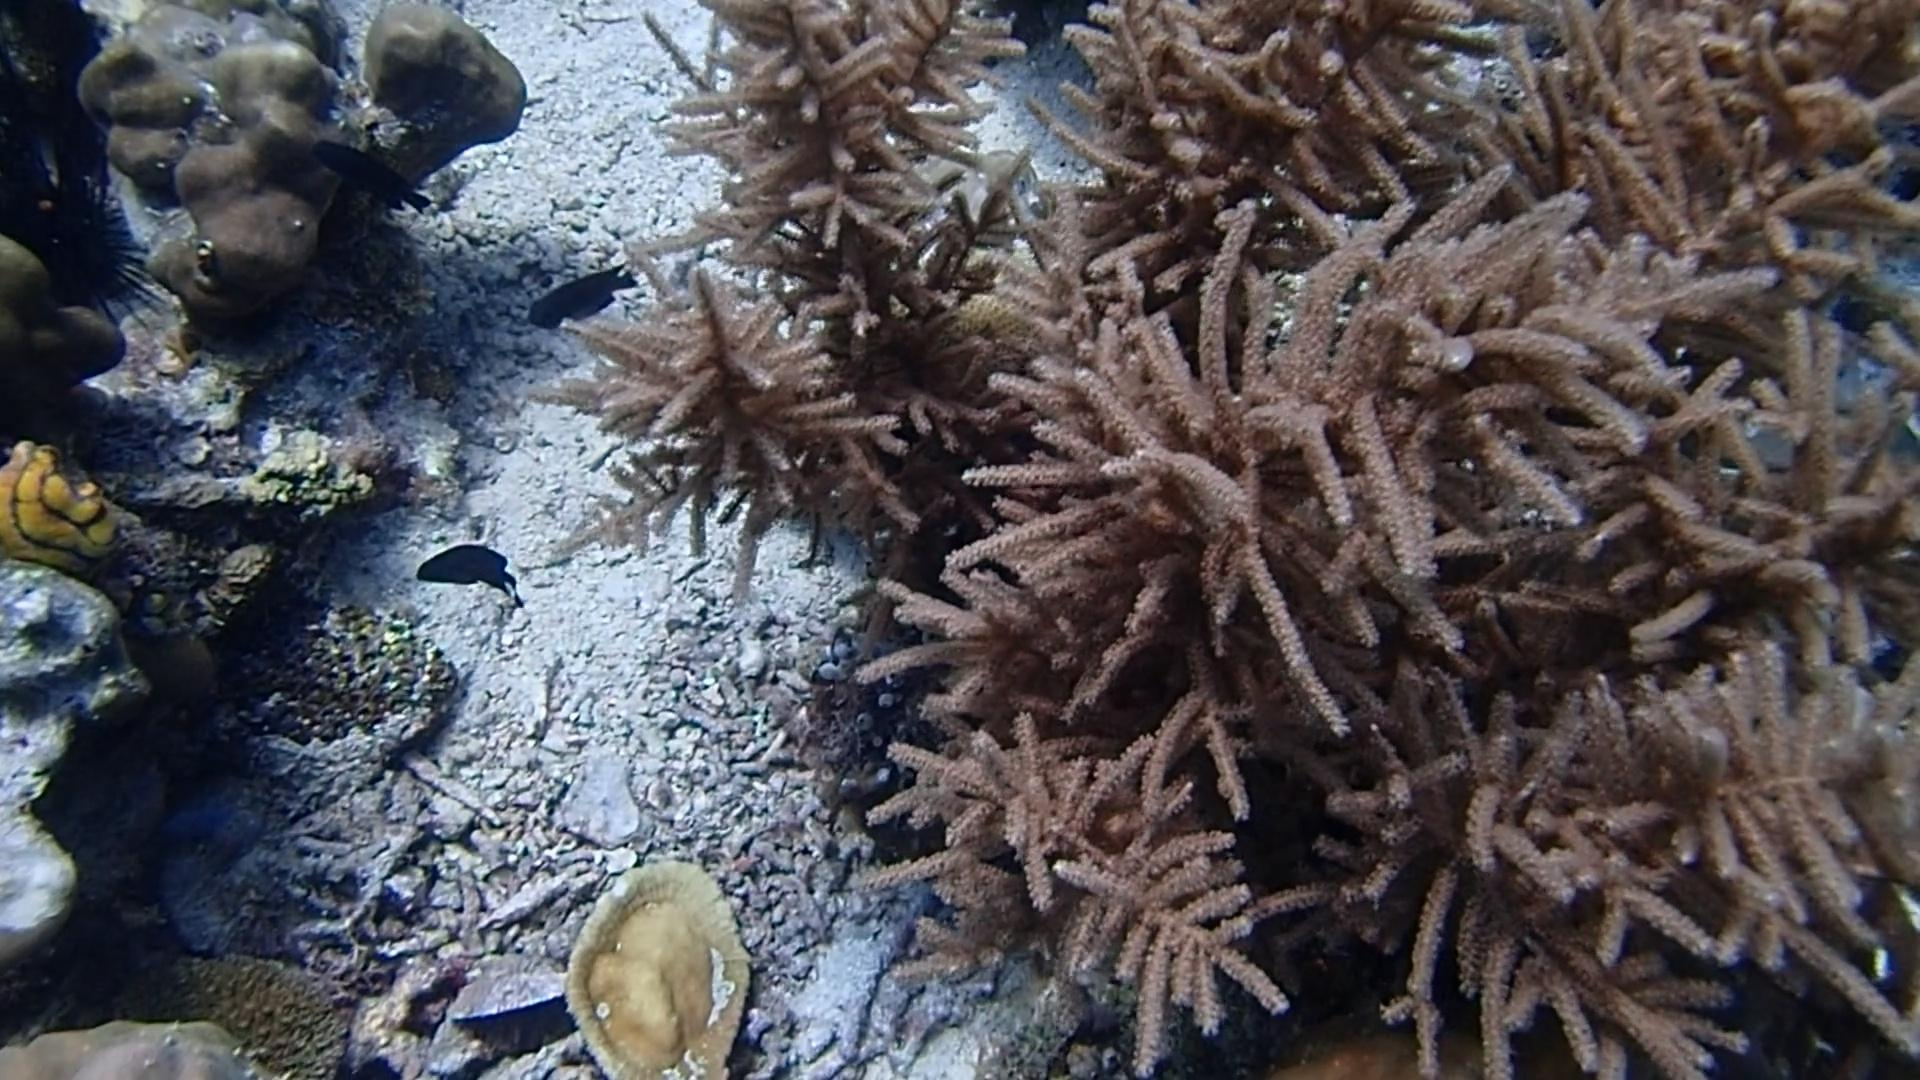Dark Fish: (409, 518, 531, 612), (521, 255, 646, 336), (310, 135, 435, 214)
